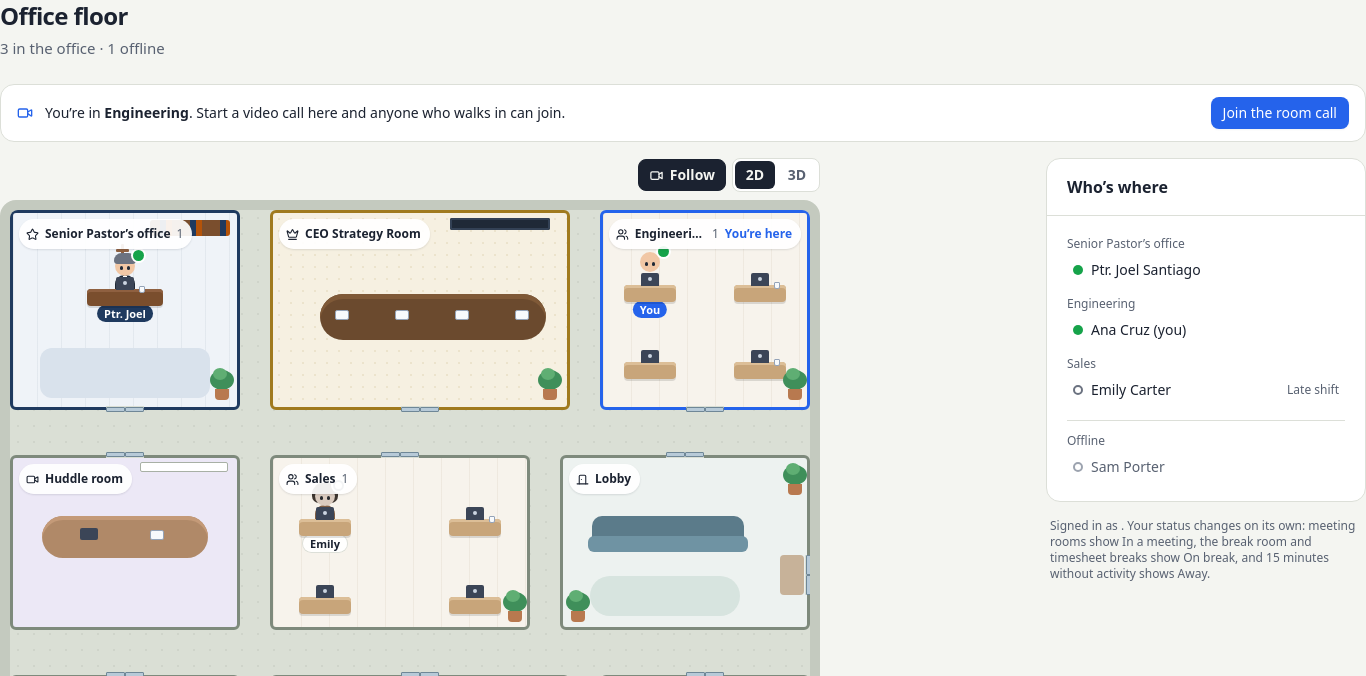
Test: Office floor › won’t knock on an empty room
Click the button named "CEO Strategy Room" at {"x": 420, "y": 310}, box [270,210,570,410]
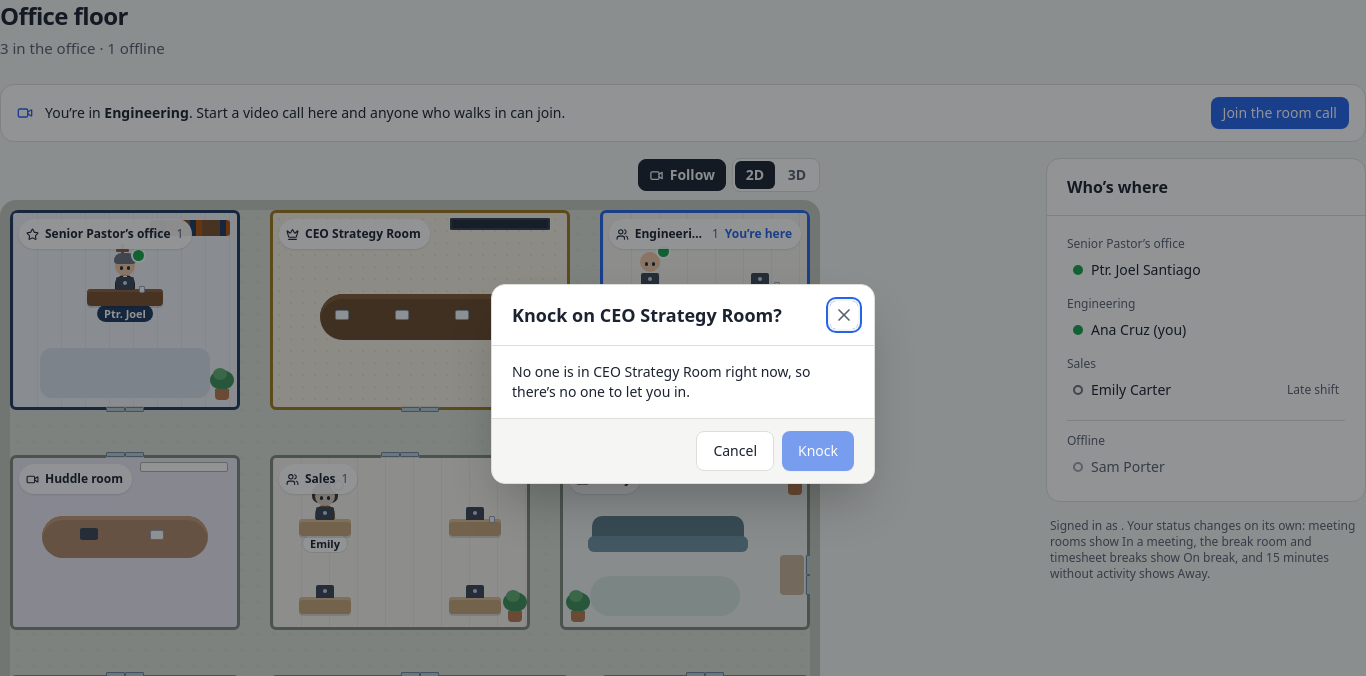
Check: the text "No one is in CEO Strategy Room right now" is shown, box [512,362,810,401]
Check: the button "Knock" is disabled, box [782,431,854,471]
